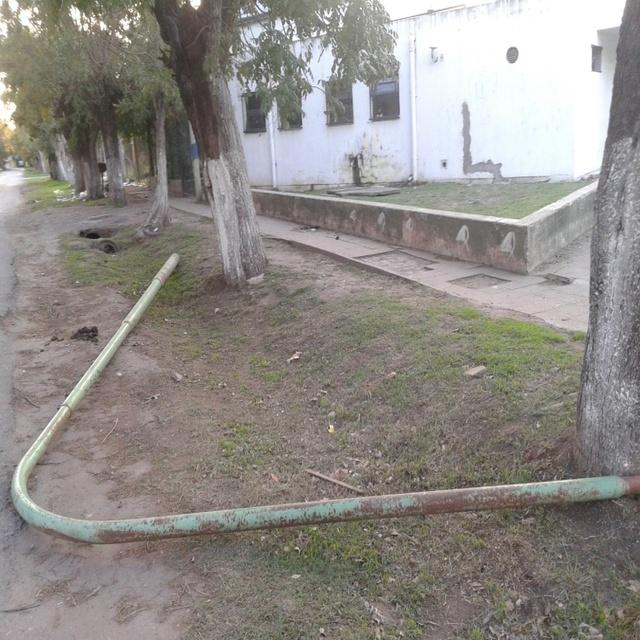Inclined Pole: (8, 255, 640, 544)
